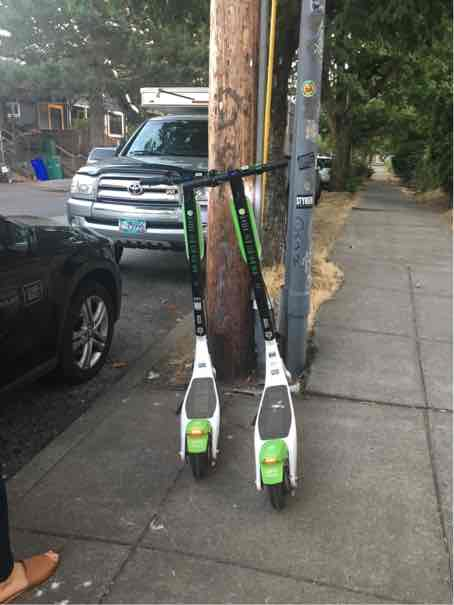scooter: (156, 159, 300, 491)
